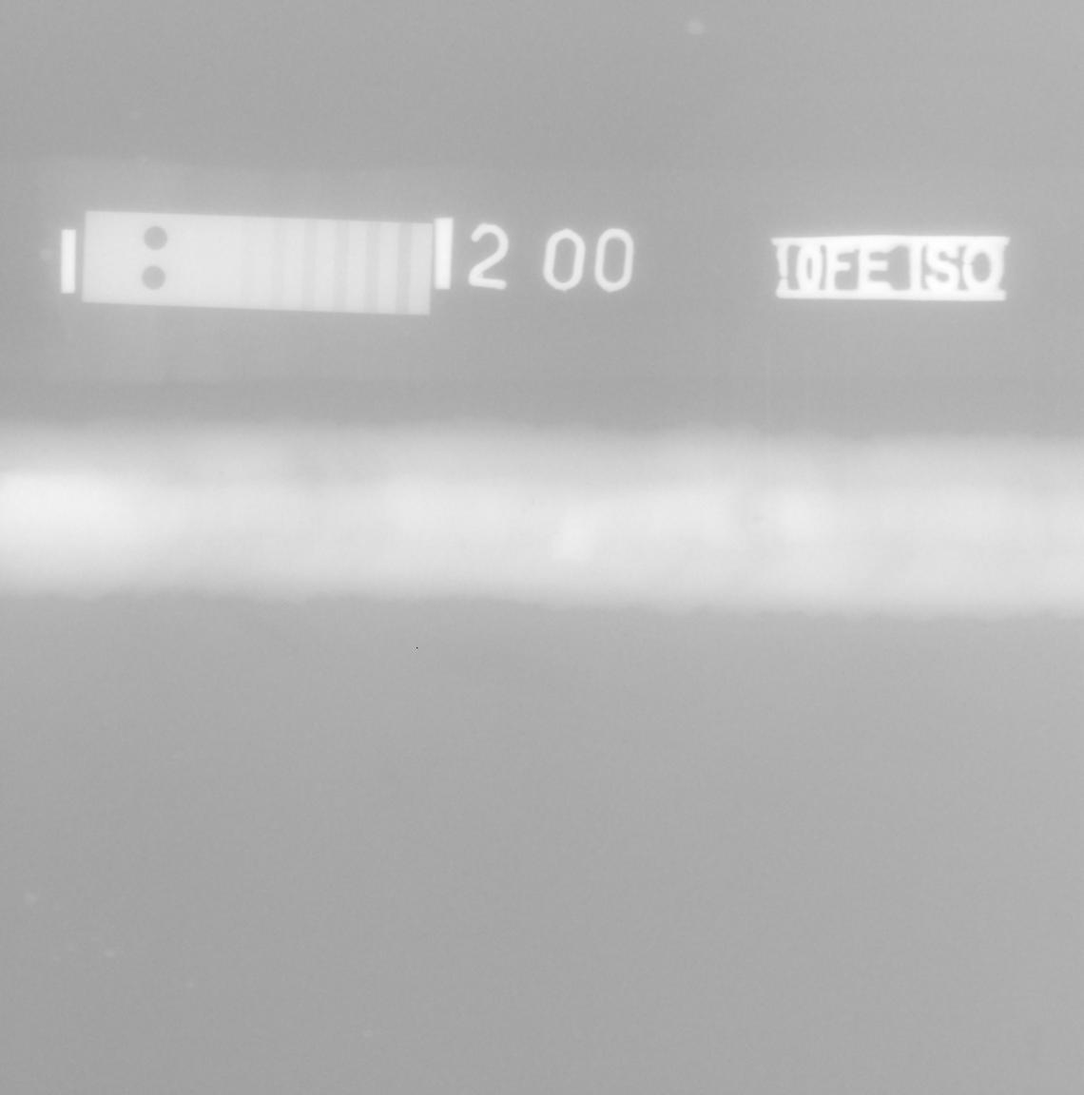Pore/Porosity: (754, 517, 760, 522)
